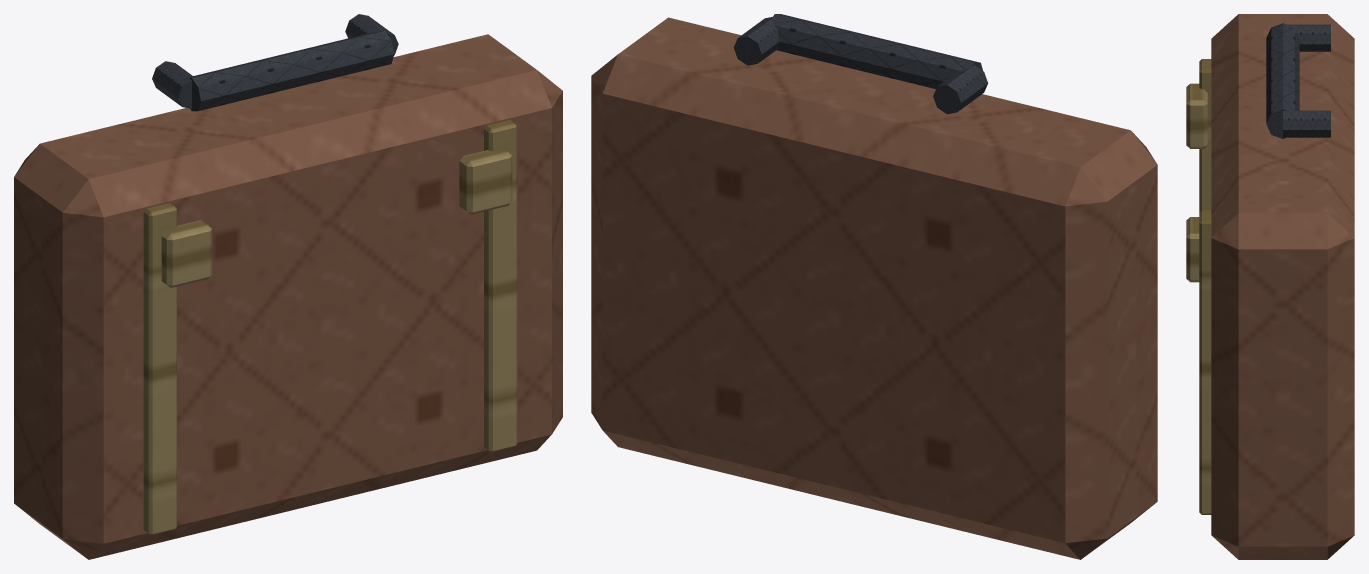
The model's file is MD_123_Briefcase.fbx.
3 renders of one model, left to right at view 1: azimuth 30°, elevation 25°; view 2: azimuth 150°, elevation 25°; view 3: azimuth 270°, elevation 25°, orthographic. The views are drawn at different scales.
Parts seen in each view (by area): view 1: MD_123_Briefcase_case_body, MD_123_Briefcase_strap, MD_123_Briefcase_strap.001, MD_123_Briefcase_carry_handle_grip, MD_123_Briefcase_brass_lock.001, MD_123_Briefcase_brass_lock, MD_123_Briefcase_carry_handle_mount, MD_123_Briefcase_carry_handle_mount.001; view 2: MD_123_Briefcase_case_body, MD_123_Briefcase_carry_handle_grip, MD_123_Briefcase_carry_handle_mount, MD_123_Briefcase_carry_handle_mount.001; view 3: MD_123_Briefcase_case_body, MD_123_Briefcase_strap.001, MD_123_Briefcase_carry_handle_grip, MD_123_Briefcase_strap, MD_123_Briefcase_brass_lock, MD_123_Briefcase_carry_handle_mount.001, MD_123_Briefcase_carry_handle_mount, MD_123_Briefcase_brass_lock.001.
Part boxes in pixels (bbox=[...]): MD_123_Briefcase_case_body: bbox=[14, 34, 562, 559]; MD_123_Briefcase_strap: bbox=[143, 203, 176, 535]; MD_123_Briefcase_strap.001: bbox=[484, 120, 517, 452]; MD_123_Briefcase_carry_handle_grip: bbox=[189, 31, 394, 111]; MD_123_Briefcase_brass_lock.001: bbox=[459, 148, 512, 214]; MD_123_Briefcase_brass_lock: bbox=[161, 220, 211, 287]; MD_123_Briefcase_carry_handle_mount: bbox=[152, 61, 192, 108]; MD_123_Briefcase_carry_handle_mount.001: bbox=[345, 14, 398, 55]; MD_123_Briefcase_case_body: bbox=[591, 17, 1157, 559]; MD_123_Briefcase_carry_handle_grip: bbox=[771, 14, 982, 88]; MD_123_Briefcase_carry_handle_mount: bbox=[933, 65, 988, 114]; MD_123_Briefcase_carry_handle_mount.001: bbox=[733, 17, 779, 65]; MD_123_Briefcase_case_body: bbox=[1211, 14, 1354, 559]; MD_123_Briefcase_strap.001: bbox=[1199, 210, 1211, 514]; MD_123_Briefcase_carry_handle_grip: bbox=[1266, 23, 1299, 138]; MD_123_Briefcase_strap: bbox=[1199, 59, 1211, 211]; MD_123_Briefcase_brass_lock: bbox=[1186, 83, 1207, 148]; MD_123_Briefcase_carry_handle_mount.001: bbox=[1283, 110, 1330, 137]; MD_123_Briefcase_carry_handle_mount: bbox=[1288, 24, 1330, 51]; MD_123_Briefcase_brass_lock.001: bbox=[1186, 217, 1199, 282].
Bounding box in the file's own units: 0.44 × 0.364 × 0.141.
Materials: 3 (3 with a texture image).
